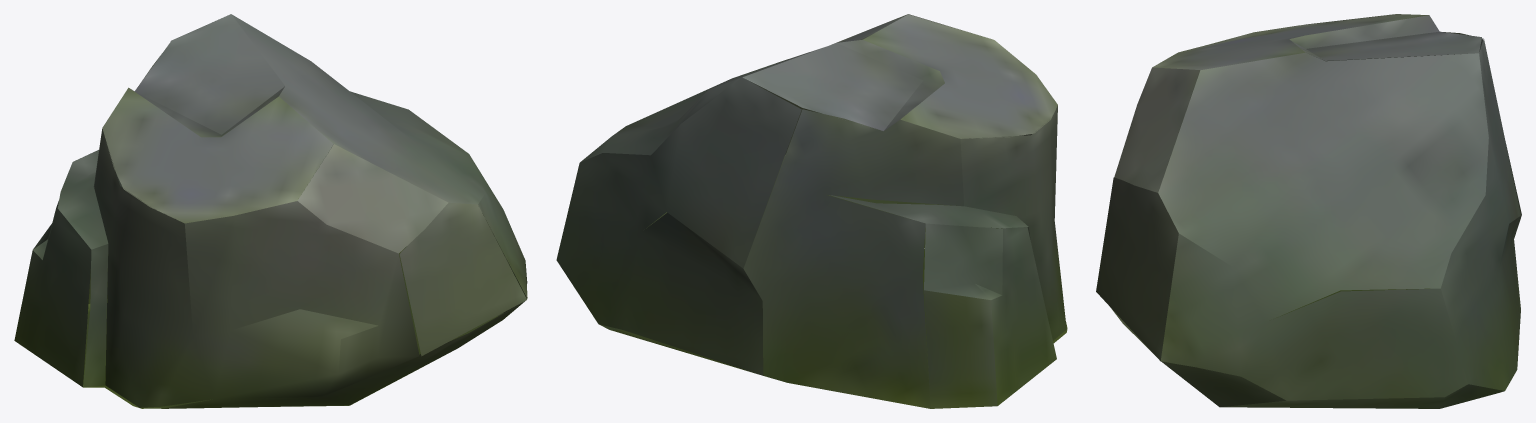
Rendered from batu-2-lod.glb.
3 views of the same model, side by side, from view 1: azimuth 30°, elevation 25°; view 2: azimuth 150°, elevation 25°; view 3: azimuth 270°, elevation 25° (orthographic). The views are drawn at different scales.
Visible parts, largest first — view 1: Rock_Medium_2; view 2: Rock_Medium_2; view 3: Rock_Medium_2.
Part boxes in pixels (bbox=[...]): Rock_Medium_2: bbox=[14, 14, 527, 408]; Rock_Medium_2: bbox=[556, 14, 1067, 408]; Rock_Medium_2: bbox=[1096, 14, 1521, 408].
Bounding box in the file's own units: 2 × 1.23 × 1.64.
1 material, 1 textured.
